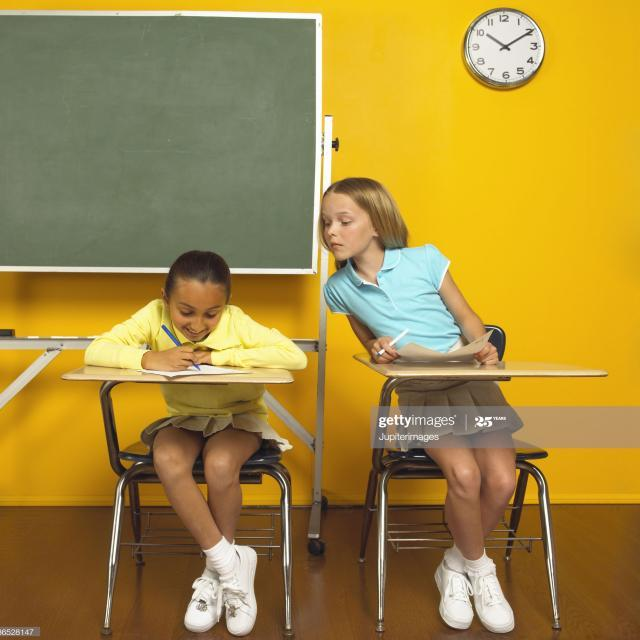cheating: (306, 159, 522, 380)
good: (57, 240, 319, 391)
